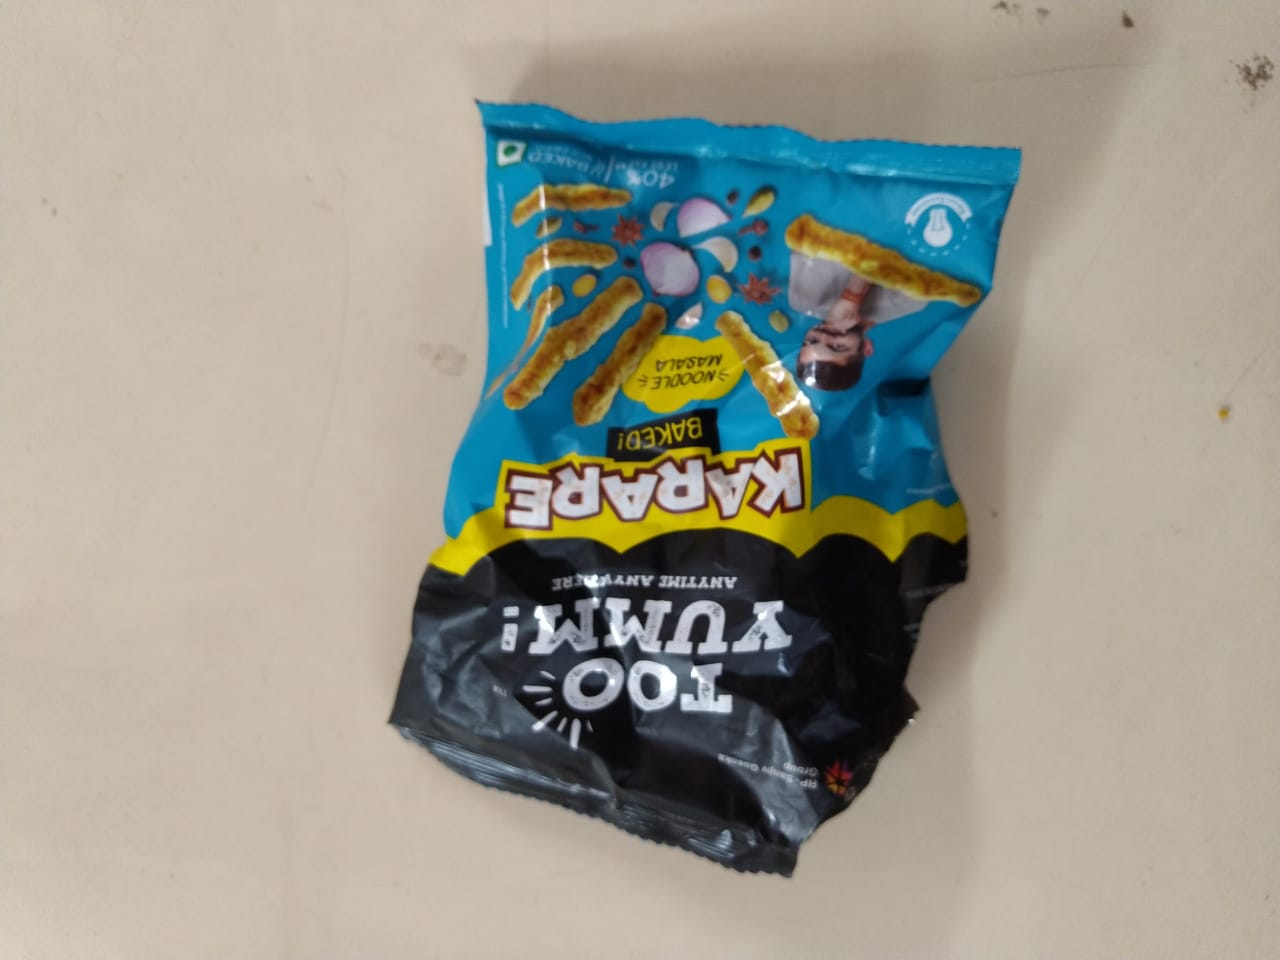plastic: (381, 85, 1037, 837)
tooyumm: (477, 565, 829, 727), (569, 537, 803, 715), (495, 567, 739, 715), (547, 519, 813, 647), (491, 569, 799, 677), (549, 633, 767, 753)
wrapper: (393, 113, 1027, 845)
